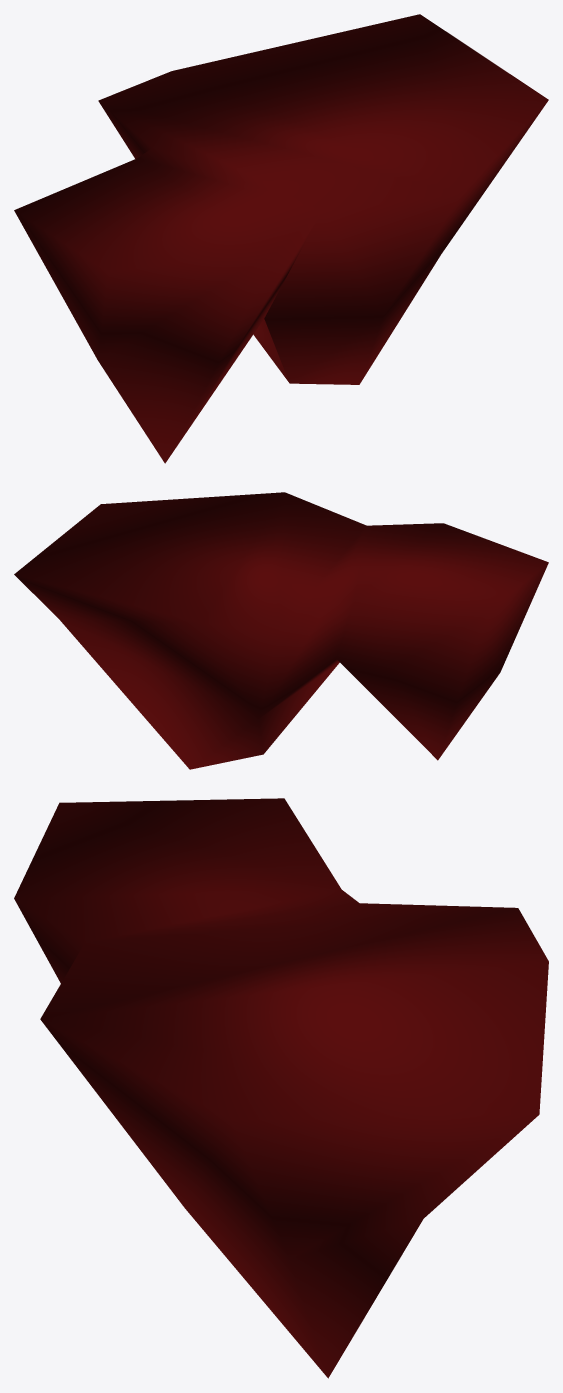
File: Ile_7_Collision.FBX
3 renders of one model, top to bottom at view 1: azimuth 30°, elevation 25°; view 2: azimuth 150°, elevation 25°; view 3: azimuth 270°, elevation 25°, orthographic. The views are drawn at different scales.
Parts seen in each view (by area): view 1: Ile_7_Collision; view 2: Ile_7_Collision; view 3: Ile_7_Collision.
Part boxes in pixels (x1,y1,x2,y2): Ile_7_Collision: [14, 14, 548, 463]; Ile_7_Collision: [14, 492, 548, 769]; Ile_7_Collision: [14, 798, 548, 1378].
Size of the model in its own units: 5109 by 3589 by 2618.
